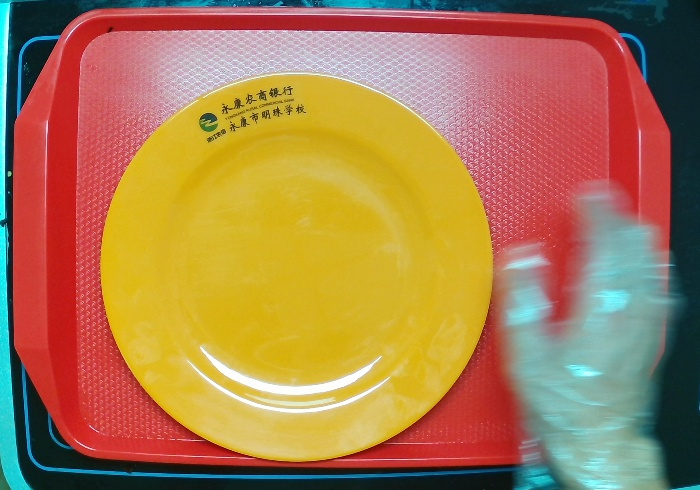YKMZ-Ju_Se_Mian_Pan: (100, 73, 499, 464)
